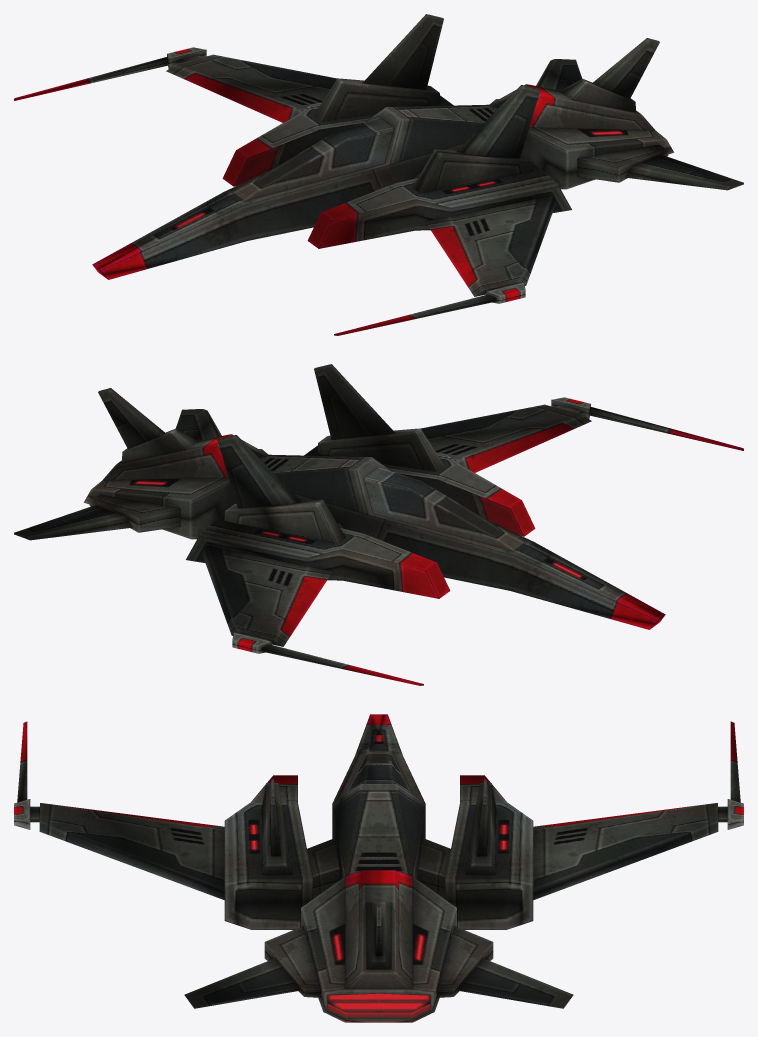
Rendered from dark_fighter_6.obj.
The picture shows the model from 3 angles, top to bottom: view 1: azimuth 30°, elevation 25°; view 2: azimuth 150°, elevation 25°; view 3: azimuth 270°, elevation 25°; orthographic projection. The views are drawn at different scales.
Parts seen in each view (by area): view 1: dark_fighter_6; view 2: dark_fighter_6; view 3: dark_fighter_6.
Boxes of the visible parts, x1,y1,x2,y2 form: dark_fighter_6: (14,14,743,335); dark_fighter_6: (14,364,743,685); dark_fighter_6: (14,714,743,1022).
Bounding box in the file's own units: 56.59 × 13.09 × 57.78.
1 material, 1 textured.
